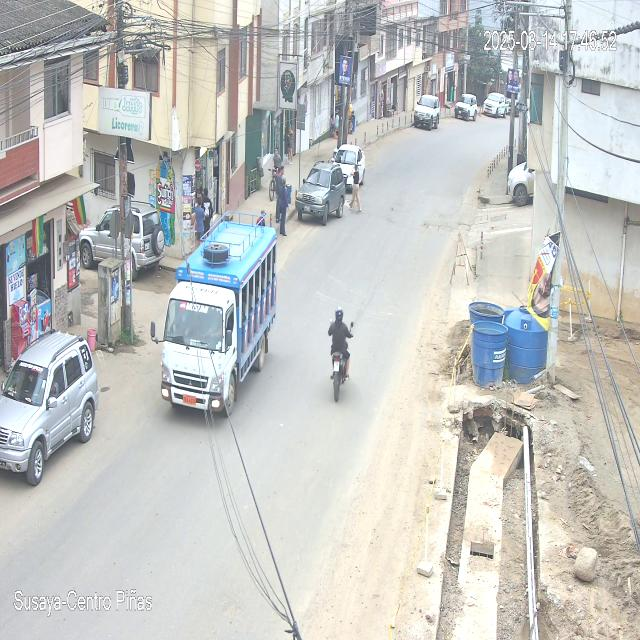MOTORCYCLE: (330, 343, 350, 403)
TRUCK: (162, 221, 278, 418)
